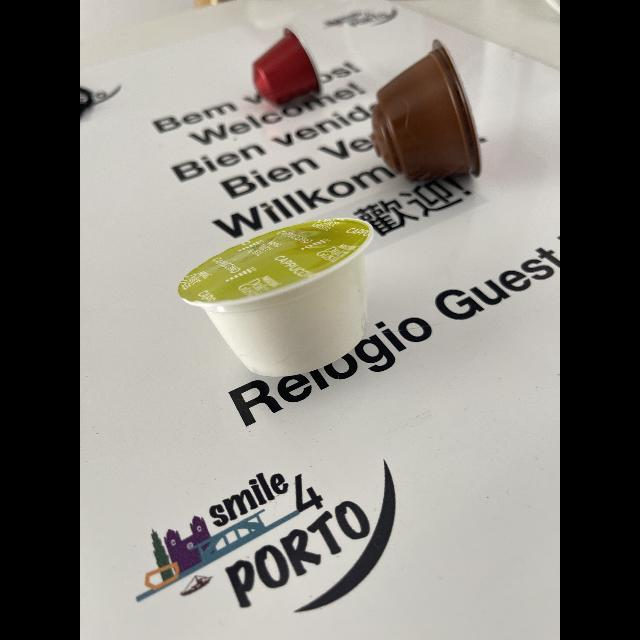intact_capsule: (168, 216, 404, 384), (364, 31, 496, 193), (243, 24, 327, 111)
